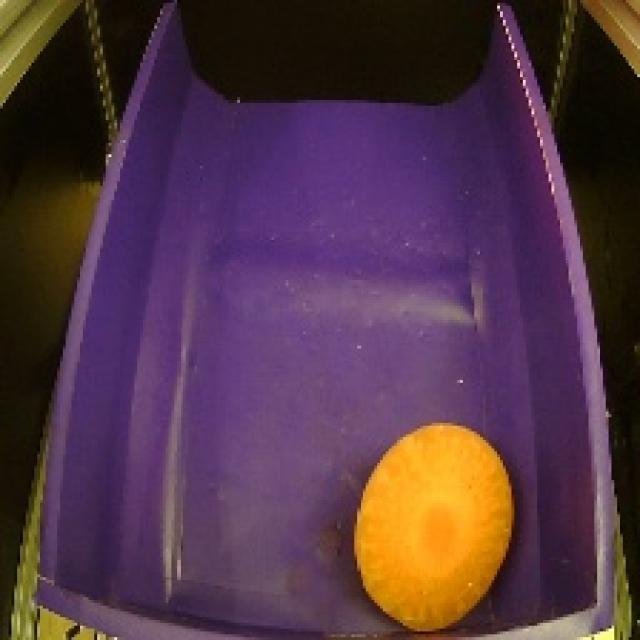carrots: (346, 414, 520, 636)
